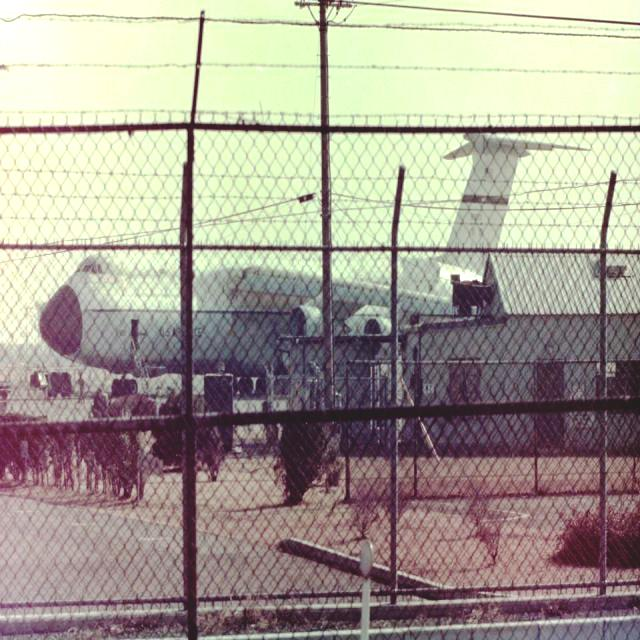Aircraft: (32, 107, 598, 395)
